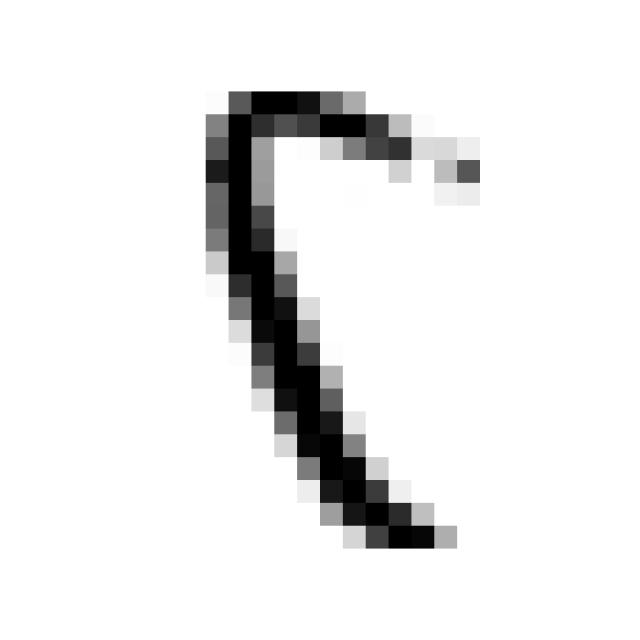2 -two-: (178, 64, 501, 574)
